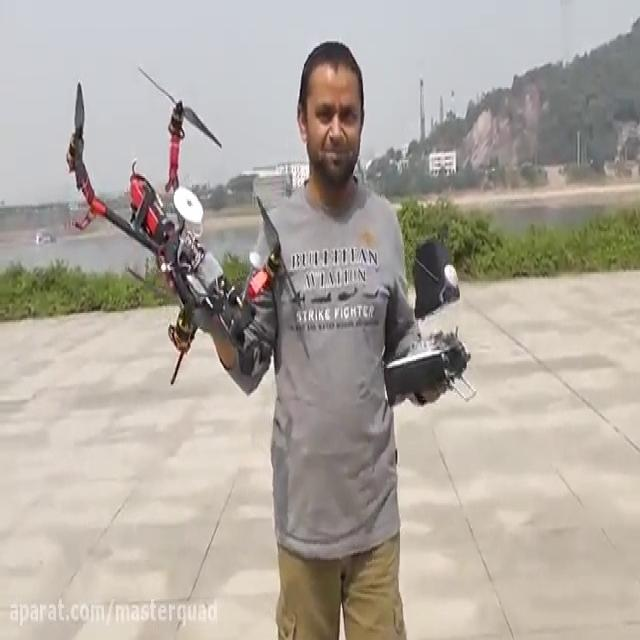drone: (64, 64, 293, 384)
